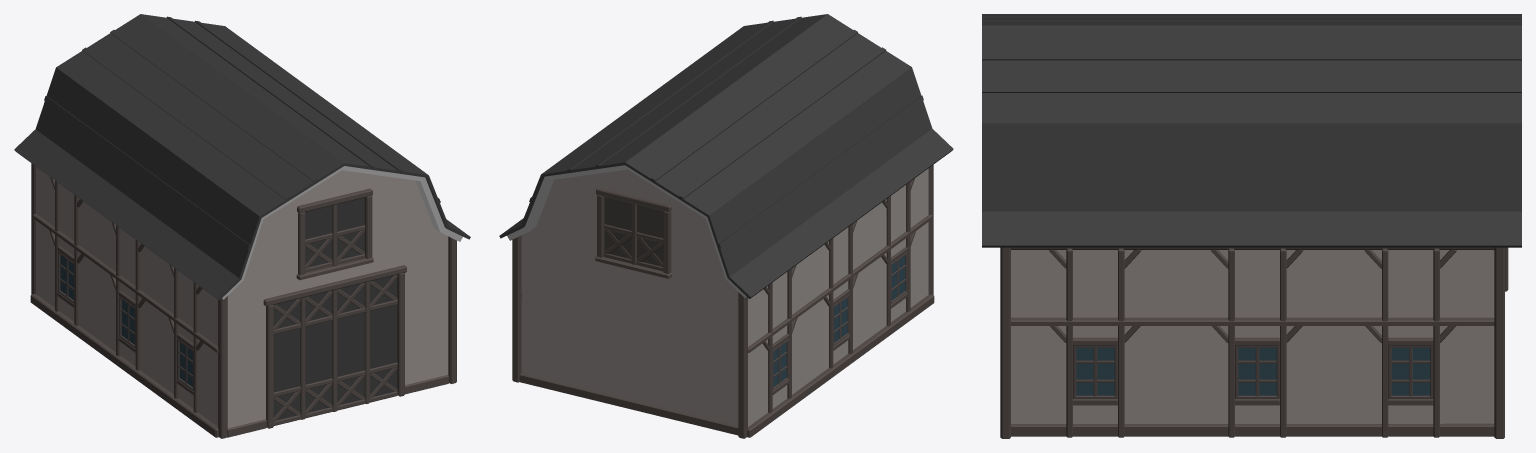
The model's file is farmbuilding_03.glb.
3 renders of one model, left to right at view 1: azimuth 30°, elevation 25°; view 2: azimuth 150°, elevation 25°; view 3: azimuth 270°, elevation 25°, orthographic. The views are drawn at different scales.
Parts seen in each view (by area): view 1: farmbuilding_03; view 2: farmbuilding_03; view 3: farmbuilding_03.
Boxes of the visible parts, box(x1,y1,x2,y2) form: farmbuilding_03: box(14, 14, 470, 438); farmbuilding_03: box(499, 14, 953, 438); farmbuilding_03: box(982, 14, 1521, 438).
Size of the model in its own units: 8.92 by 8.57 by 12.44.
1 material, 1 textured.
